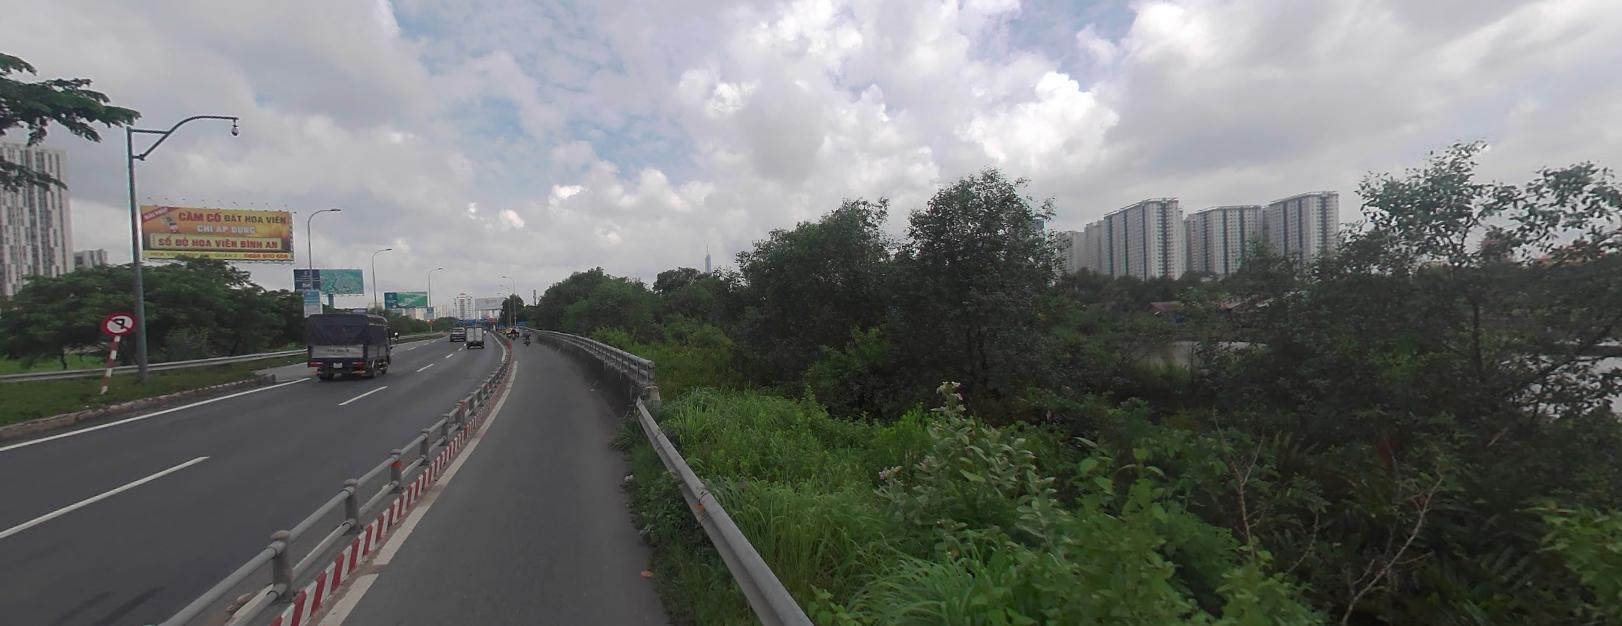Cam re: (101, 307, 136, 335)
